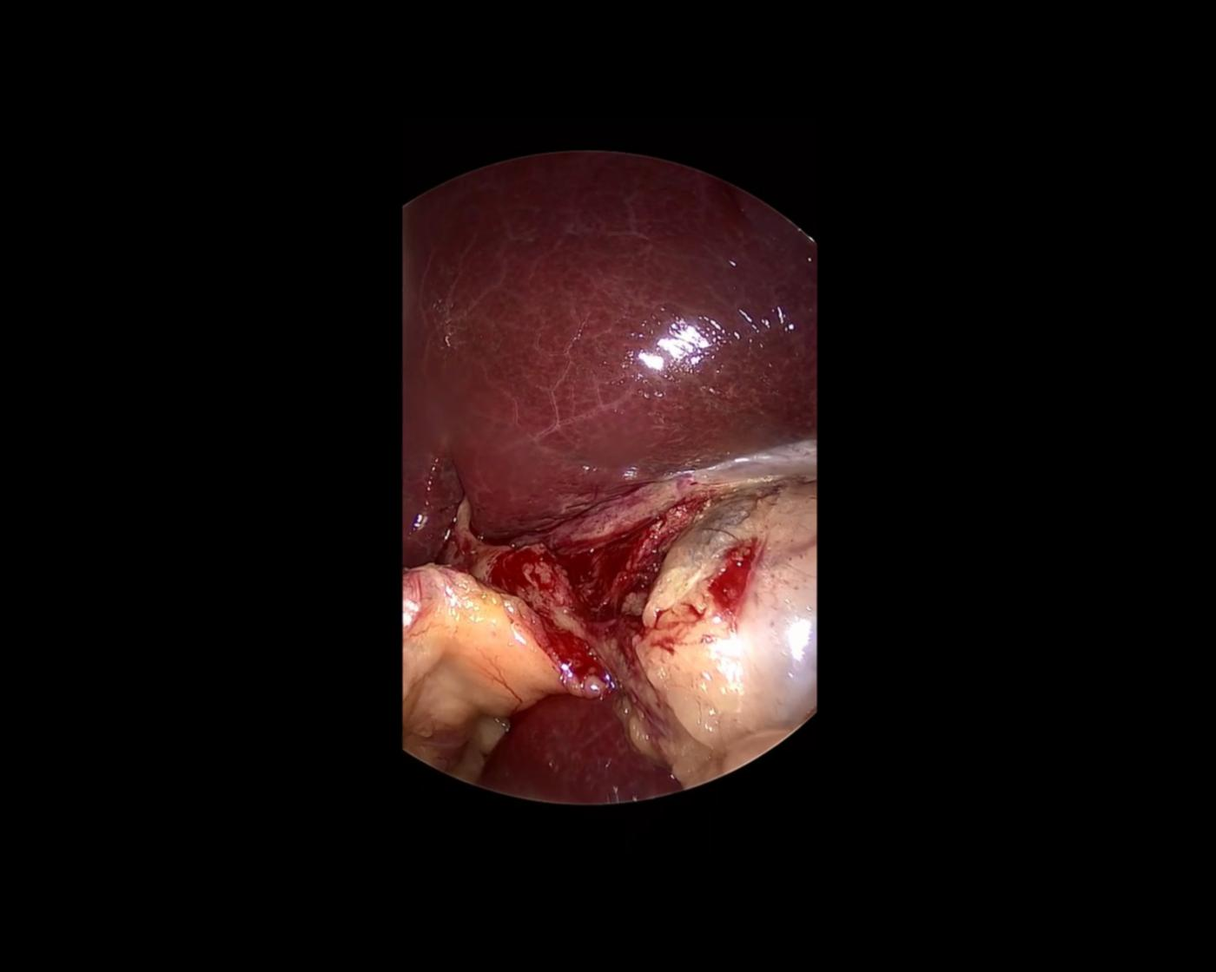Gallbladder: (631, 483, 814, 788)
Liver: (403, 153, 815, 566), (475, 698, 676, 801)
